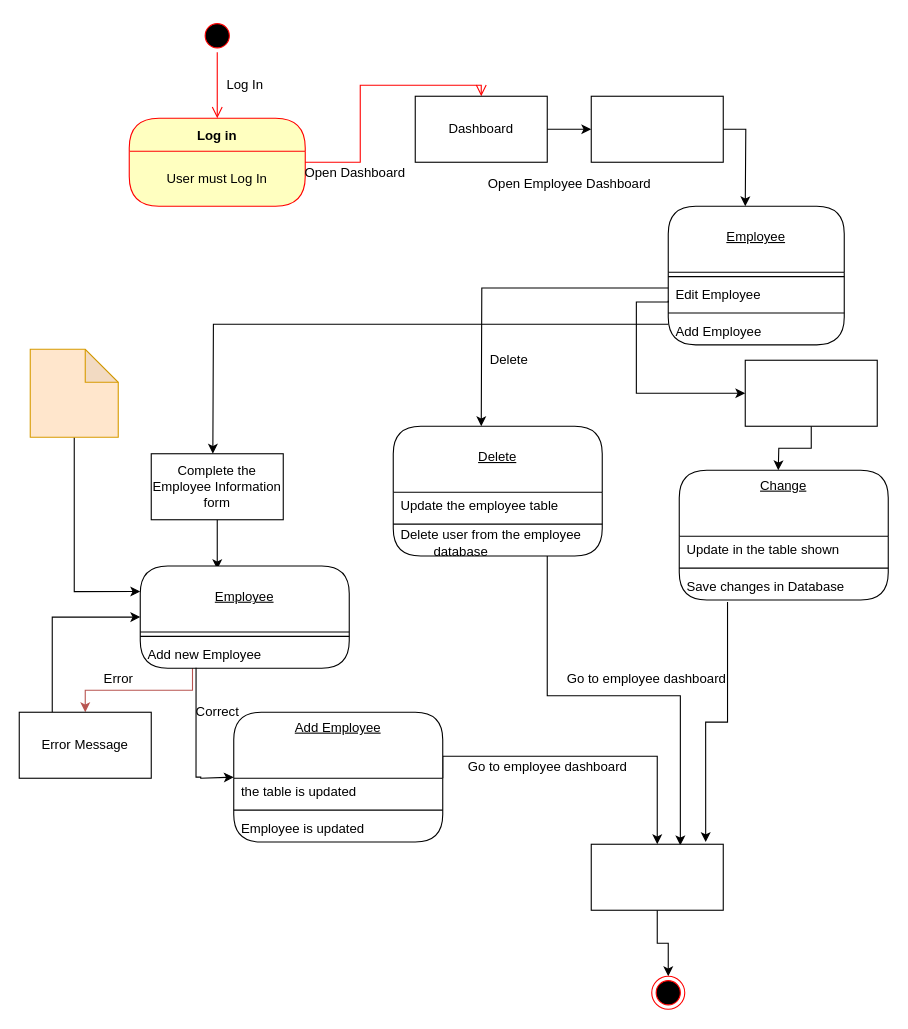
Some shapes in this 908 by 1029 pixel diagram are drawn without their labels. Here are the shapes that lost their labels. From the top down, the box of each, then its label:
(590, 95, 723, 162): Employee Dashboard
(29, 348, 118, 437): Check the employee fields
(744, 359, 877, 426): Edit the fields
(590, 843, 723, 910): Show Employee Dashboard
